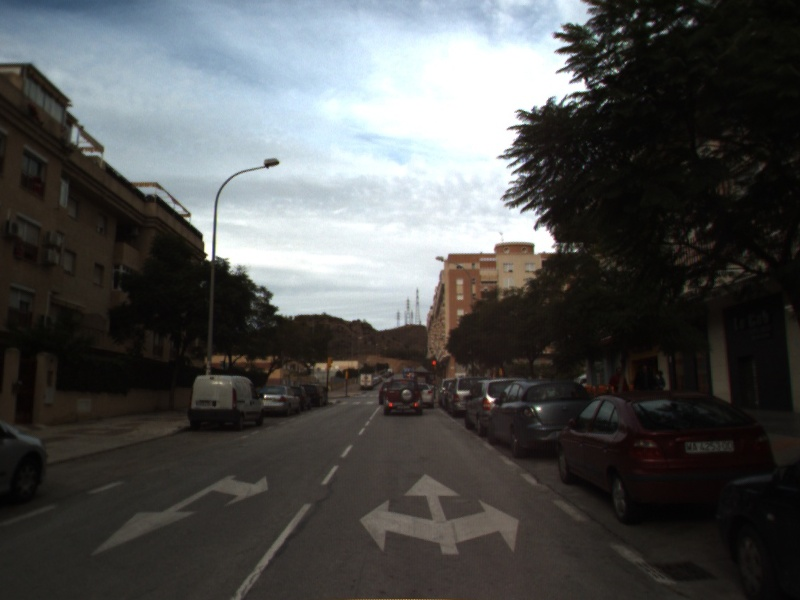STRAIGHT_LEFT_RIGHT: (357, 471, 521, 557)
